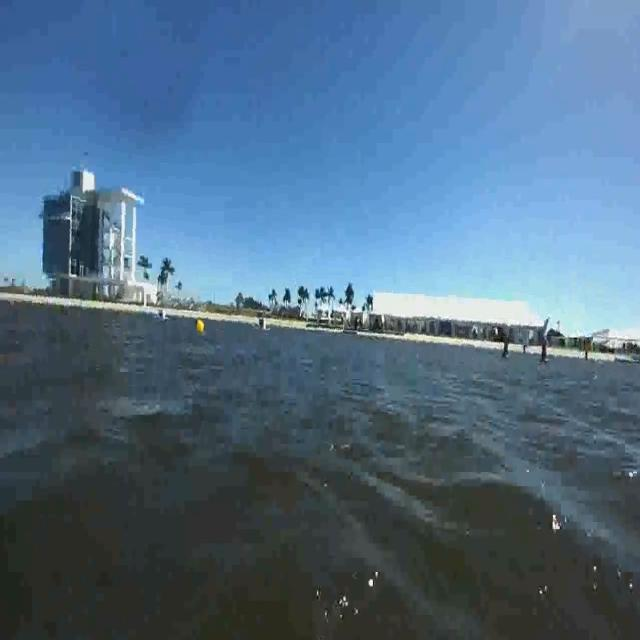yellow-buoy: (198, 320, 206, 338)
